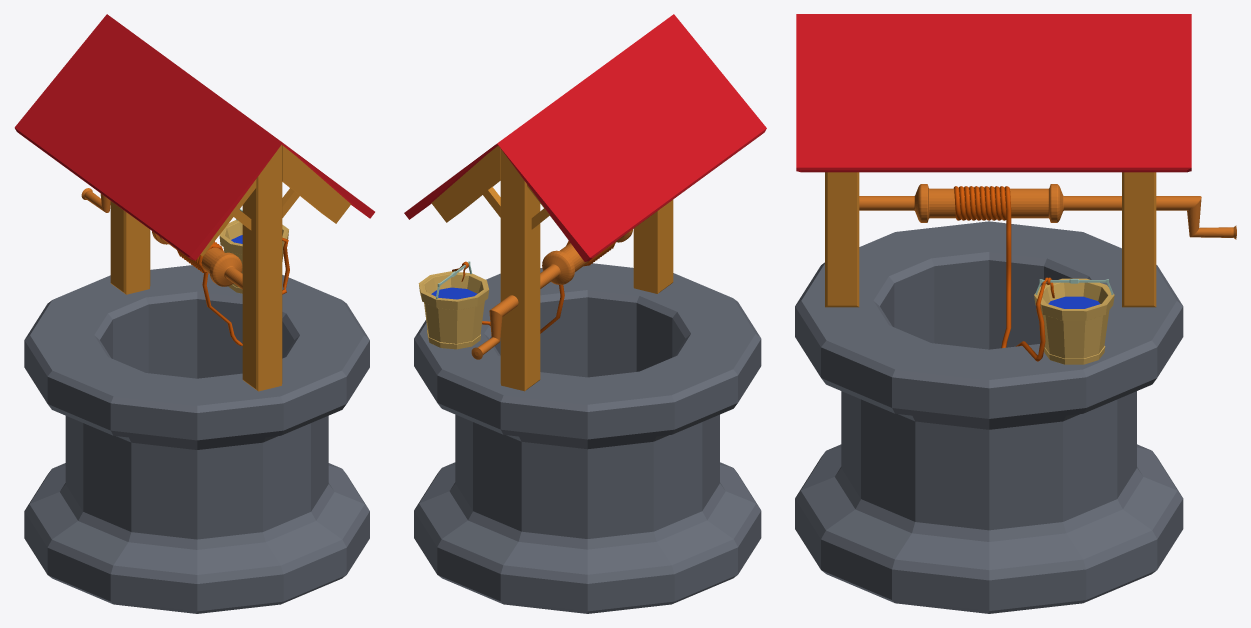
File: well.fbx
3 views of the same model, side by side, from view 1: azimuth 30°, elevation 25°; view 2: azimuth 150°, elevation 25°; view 3: azimuth 270°, elevation 25° (orthographic). The views are drawn at different scales.
Parts seen in each view (by area): view 1: Pierre, Toit, Poutre, poulie, Corde, Seau; view 2: Pierre, Toit, Poutre, Seau, poulie, Corde; view 3: Pierre, Toit, Poutre, poulie, Seau, Corde.
Boxes of the visible parts, bbox=[...] form: Pierre: bbox=[24, 265, 369, 613]; Toit: bbox=[14, 14, 374, 260]; Poutre: bbox=[110, 144, 351, 391]; poulie: bbox=[81, 188, 242, 289]; Corde: bbox=[176, 237, 289, 345]; Seau: bbox=[219, 208, 288, 293]; Pierre: bbox=[414, 263, 761, 613]; Toit: bbox=[404, 14, 766, 261]; Poutre: bbox=[431, 145, 673, 391]; Seau: bbox=[418, 261, 489, 349]; poulie: bbox=[471, 229, 632, 359]; Corde: bbox=[452, 241, 615, 333]; Pierre: bbox=[795, 221, 1183, 613]; Toit: bbox=[796, 14, 1191, 172]; Poutre: bbox=[825, 172, 1156, 307]; poulie: bbox=[859, 184, 1236, 239]; Seau: bbox=[1034, 278, 1114, 364]; Corde: bbox=[953, 186, 1054, 361].
Bounding box in the file's own units: 263 × 388 × 299.
